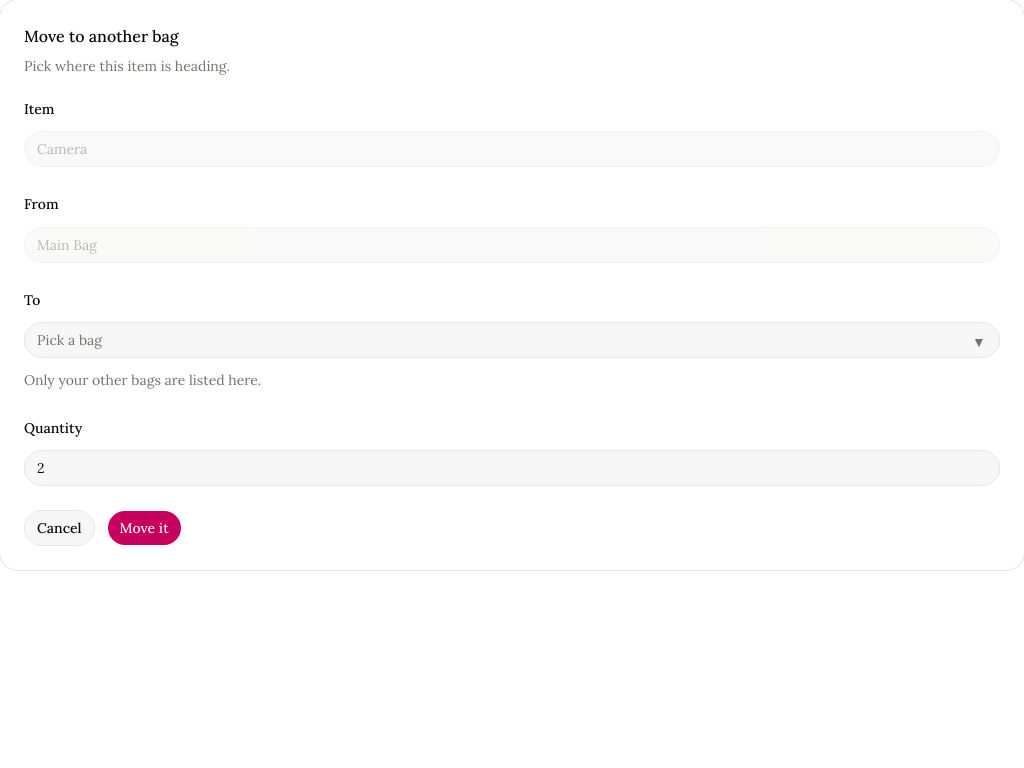
Test: MoveItemForm › excludes the current bag from the destination list
This screenshot has width=1024, height=768.
Step 1. Click the dropdown → (70, 340), box [24,322,1000,358]
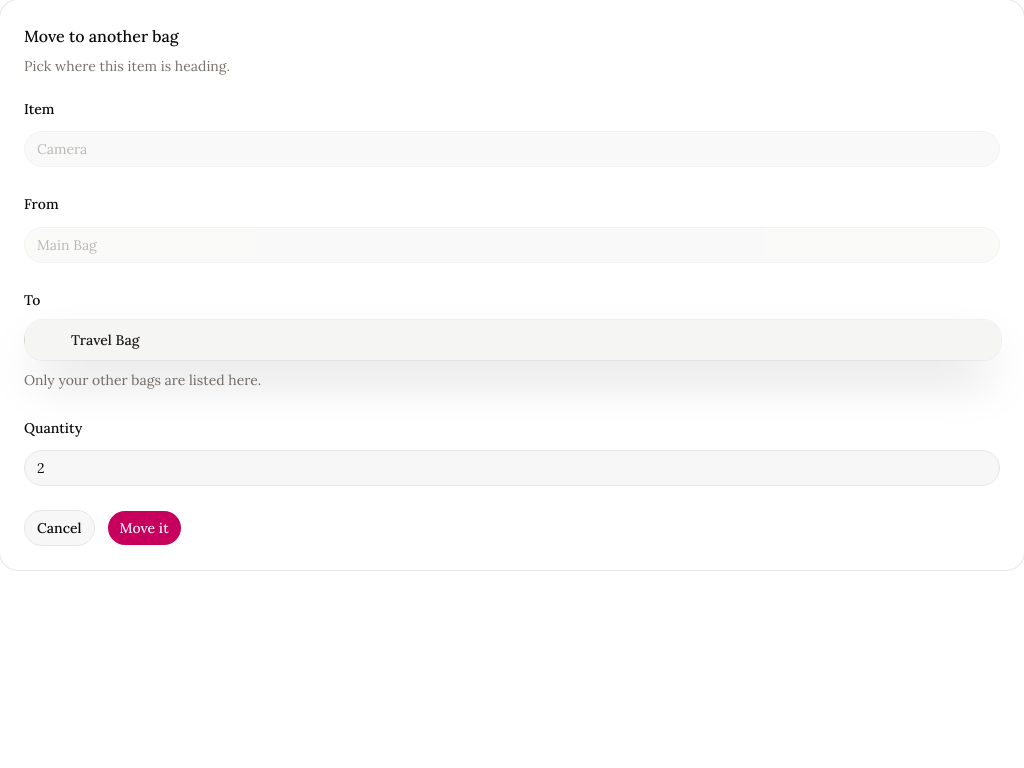
Check: the text "Travel Bag" is shown, box [71,331,139,349]
